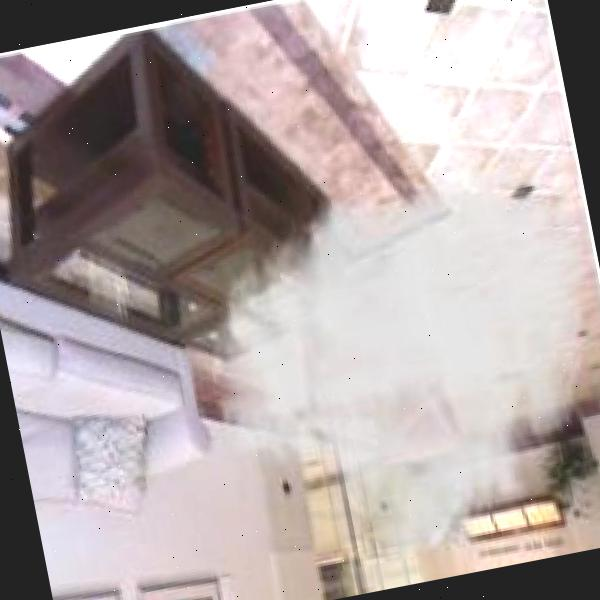smoke: (173, 131, 600, 600)
